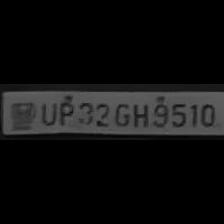0: (198, 100, 216, 126)
1: (186, 98, 202, 128)
2: (92, 99, 110, 127)
3: (76, 98, 94, 127)
5: (168, 100, 190, 126)
9: (150, 100, 168, 128)
G: (110, 99, 130, 127)
H: (130, 100, 148, 128)
P: (54, 98, 74, 126)
U: (36, 98, 56, 126)
